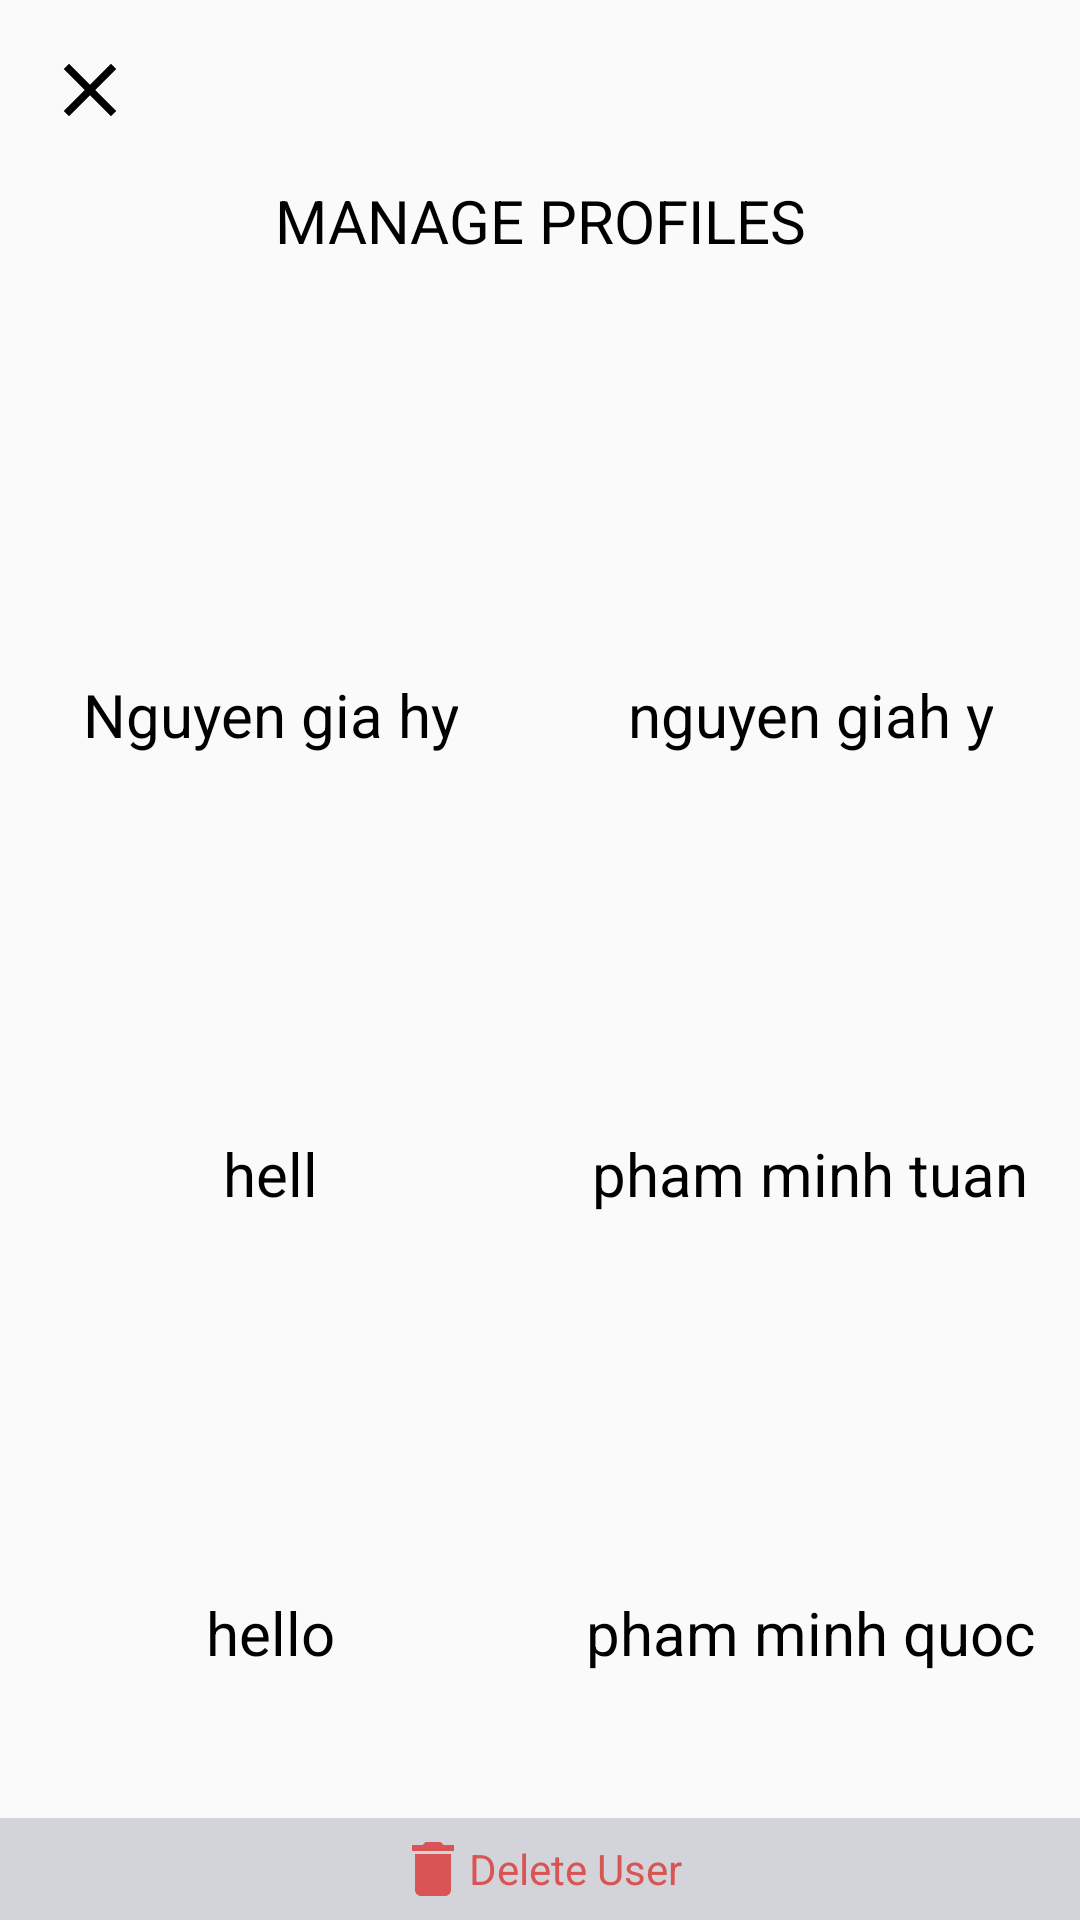

Icon bounding boxes for this 1080 × 1920 phone screenshot, format {"x1": x1, "y1": y1, "x2": x2, "y2": y2}:
close appday: {"x1": 64, "y1": 64, "x2": 116, "y2": 116}
